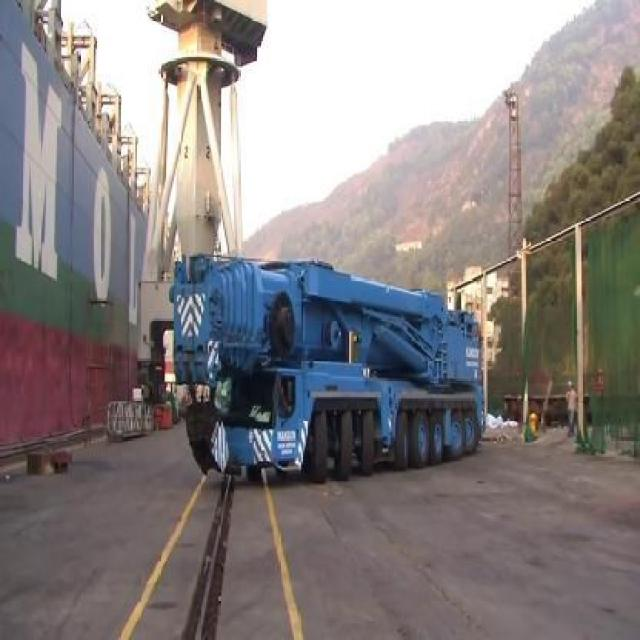Mobile Crane: (173, 255, 484, 483)
